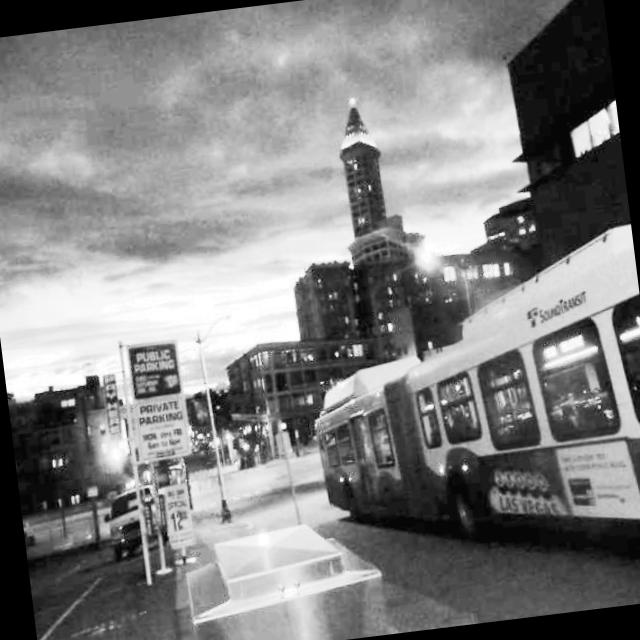Bus: (267, 208, 640, 627)
